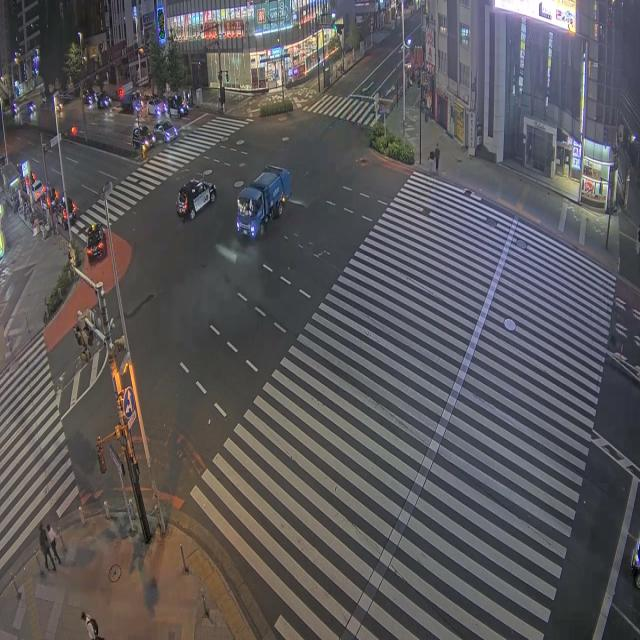car: (177, 180, 216, 220), (86, 224, 106, 261), (153, 120, 177, 142), (132, 126, 156, 148), (168, 95, 188, 118), (147, 99, 167, 116), (32, 180, 46, 202), (83, 90, 97, 108), (97, 92, 111, 108), (27, 102, 35, 114)
